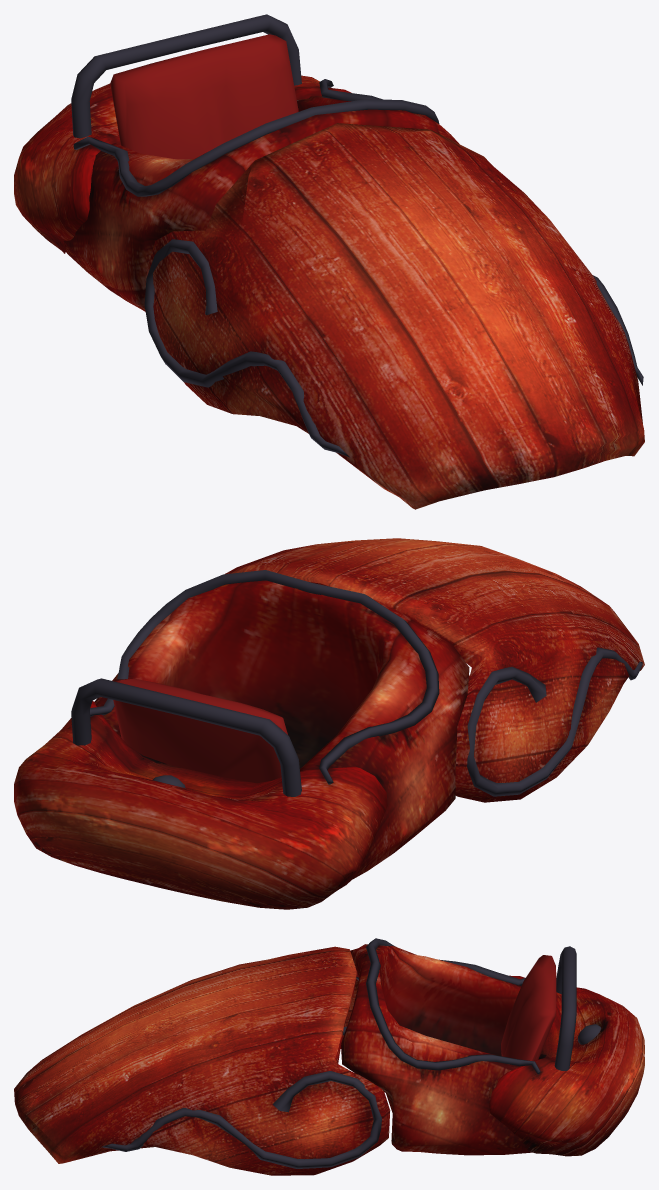
Rendered from RedwoodCart2.obj.
3 views of the same model, one above another, from view 1: azimuth 30°, elevation 25°; view 2: azimuth 150°, elevation 25°; view 3: azimuth 270°, elevation 25° (orthographic). The views are drawn at different scales.
Parts seen in each view (by area): view 1: Mesh_CartFront, Mesh_CartMid, Mesh_Seat, Mesh_Metal, Mesh_CartRear; view 2: Mesh_CartMid, Mesh_CartRear, Mesh_CartFront, Mesh_Metal, Mesh_Seat; view 3: Mesh_CartFront, Mesh_CartMid, Mesh_CartRear, Mesh_Metal, Mesh_Seat.
Boxes of the visible parts, x1,y1,x2,y2 form: Mesh_CartFront: [147, 123, 644, 509]; Mesh_CartMid: [64, 96, 459, 311]; Mesh_Seat: [110, 34, 298, 159]; Mesh_Metal: [71, 14, 643, 457]; Mesh_CartRear: [14, 75, 351, 253]; Mesh_CartMid: [94, 580, 469, 878]; Mesh_CartRear: [14, 701, 387, 909]; Mesh_CartFront: [225, 538, 644, 802]; Mesh_Metal: [71, 570, 642, 796]; Mesh_Seat: [113, 678, 287, 783]; Mesh_CartFront: [14, 946, 390, 1175]; Mesh_CartMid: [341, 944, 532, 1155]; Mesh_CartRear: [489, 975, 644, 1156]; Mesh_Metal: [101, 938, 601, 1168]; Mesh_Seat: [501, 955, 556, 1060].
Bounding box in the file's own units: 127 × 71.98 × 251.
Materials: 5 (3 with a texture image).
